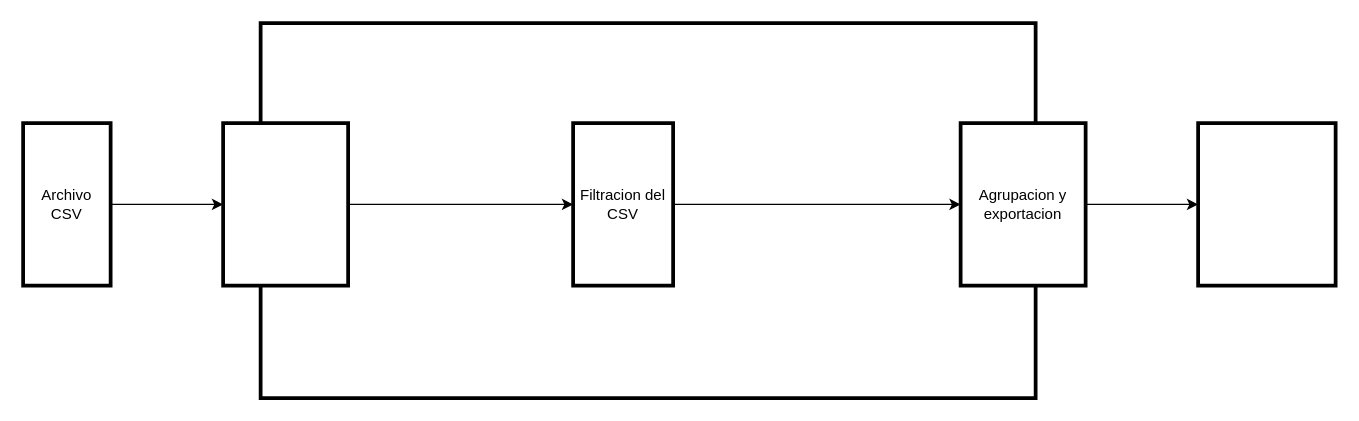
The diagram is 1359 pixels wide and 421 high, and some of its shapes have lost their labels. The shapes that lost their labels are listed below. From the top down, each one's centre as x and y in pixels, then its label:
At pixel 285 204: "Procesamiento del CSV".
At pixel 1266 204: "Visualizacion y consulta de datos".
